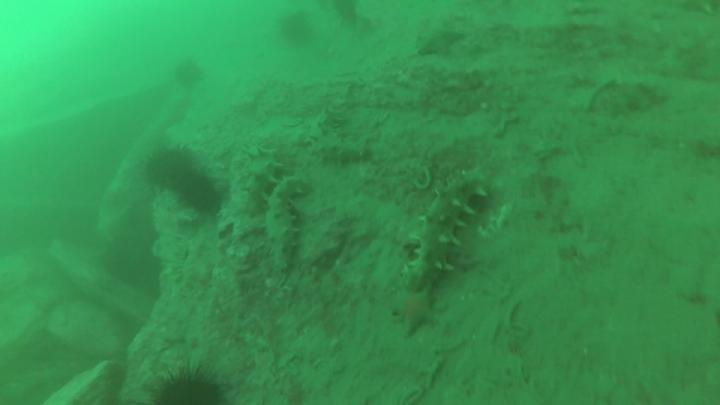echinus: (154, 374, 221, 405), (147, 149, 191, 188), (185, 173, 222, 210), (281, 15, 309, 43), (176, 60, 200, 85)
holothurian: (401, 166, 493, 285), (269, 175, 311, 268), (242, 142, 282, 193), (316, 132, 370, 167)
starfish: (390, 290, 436, 333)
